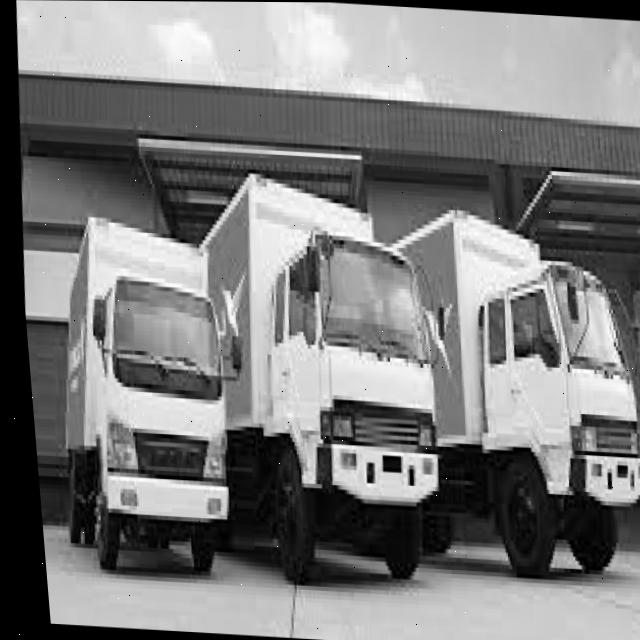truck: (234, 207, 467, 595), (440, 235, 640, 585), (55, 253, 258, 594)
